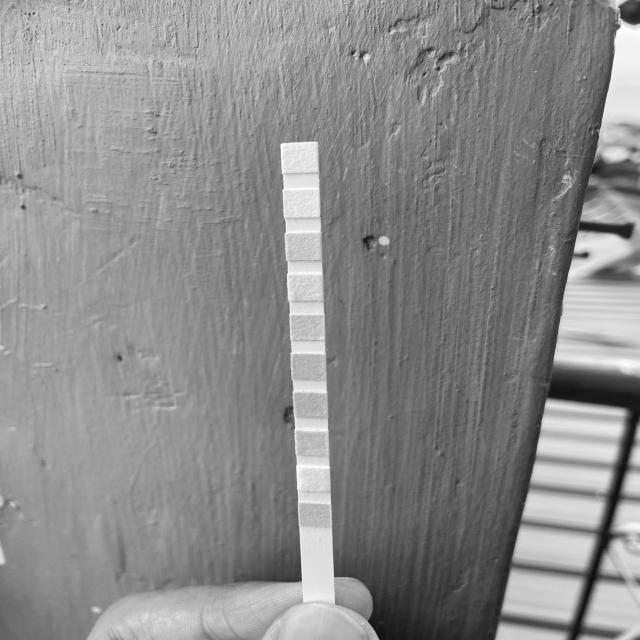Bilirubin: (296, 467, 330, 491)
Blood: (292, 354, 326, 380)
Glucose: (298, 503, 331, 526)
Ketone: (294, 430, 328, 456)
Leukocytes: (282, 143, 317, 172)
Nitrite: (284, 190, 319, 218)
Protein: (288, 274, 323, 300)
SpGravity: (294, 392, 327, 417)
Urobilinogen: (287, 233, 321, 260)
background: (0, 0, 640, 640)
pH: (289, 315, 324, 341)
strip: (281, 142, 335, 601)
